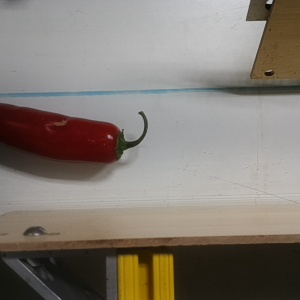Cut Point: (101, 121, 130, 164)
